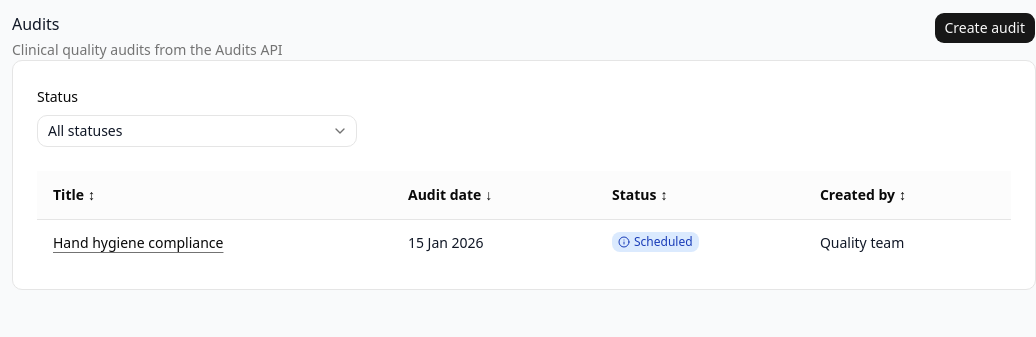
Test case: AuditsView › shows filtered empty message when status filter is active and no audits match
Expected: the element named "Audits list, scrollable" is shown, top-left (37, 171), bottom-right (1011, 265)
Click the dropdown labelled "status".
click(85, 130)  # box top-left (37, 115), bottom-right (357, 147)
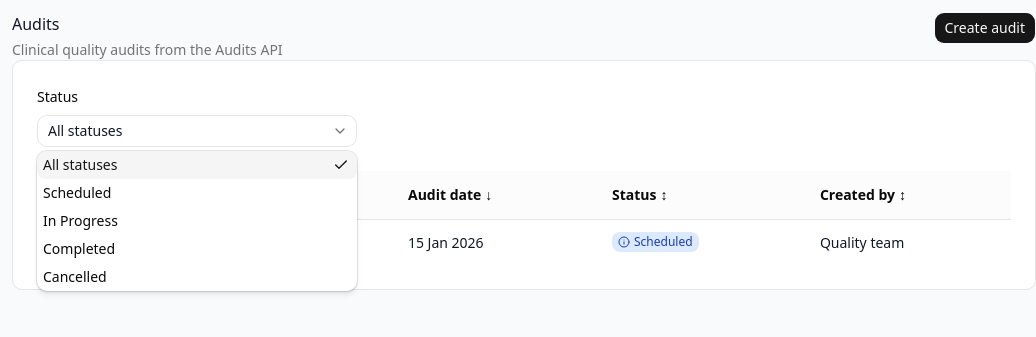
Click the option "Completed".
click(79, 248)  # box top-left (43, 239), bottom-right (115, 258)
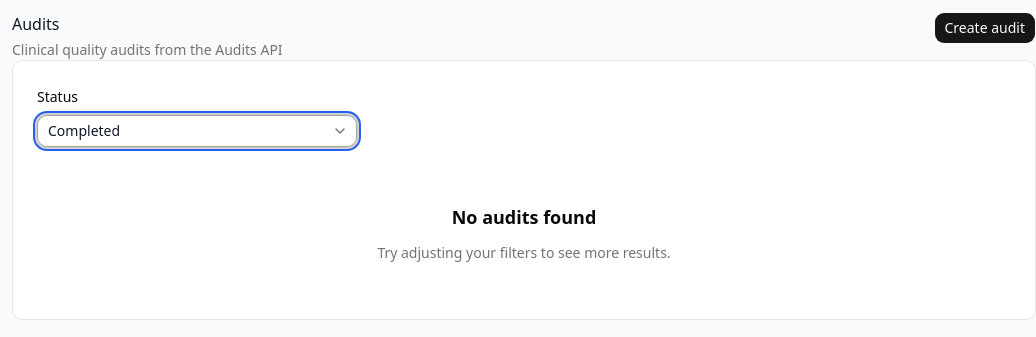
Expected: the text "Try adjusting your filters to see more results." is shown, top-left (377, 243), bottom-right (671, 263)
